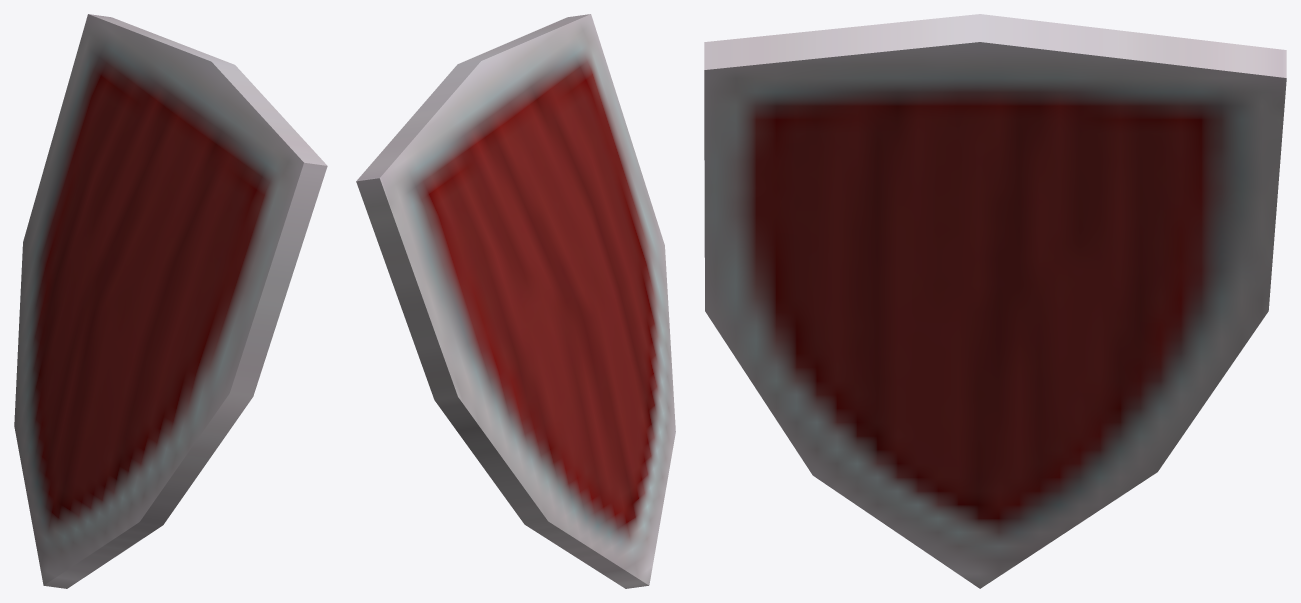
File: building_Armor_shield03.FBX
3 views of the same model, side by side, from view 1: azimuth 30°, elevation 25°; view 2: azimuth 150°, elevation 25°; view 3: azimuth 270°, elevation 25° (orthographic). The views are drawn at different scales.
Visible parts, largest first — view 1: building_Armor_shield03; view 2: building_Armor_shield03; view 3: building_Armor_shield03.
Boxes of the visible parts, bbox=[...] form: building_Armor_shield03: bbox=[14, 14, 327, 588]; building_Armor_shield03: bbox=[356, 14, 675, 588]; building_Armor_shield03: bbox=[704, 14, 1286, 588].
Bounding box in the file's own units: 20.51 × 50.33 × 39.6.
